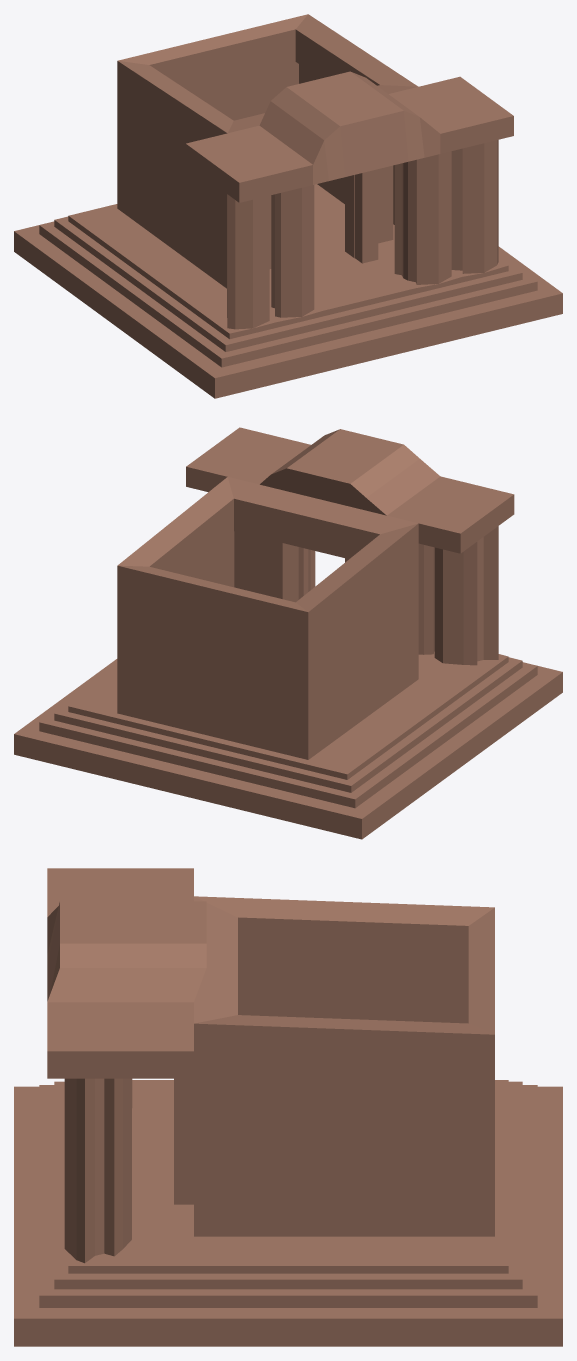
The model's file is Museum.fbx.
3 renders of one model, top to bottom at view 1: azimuth 30°, elevation 25°; view 2: azimuth 150°, elevation 25°; view 3: azimuth 270°, elevation 25°, orthographic. The views are drawn at different scales.
Parts seen in each view (by area): view 1: Cube; view 2: Cube; view 3: Cube.
Boxes of the visible parts, x1=… form: Cube: x1=14, y1=14, x2=562, y2=398; Cube: x1=14, y1=427, x2=562, y2=839; Cube: x1=14, y1=868, x2=562, y2=1346.
Bounding box in the file's own units: 980 × 607 × 980.
